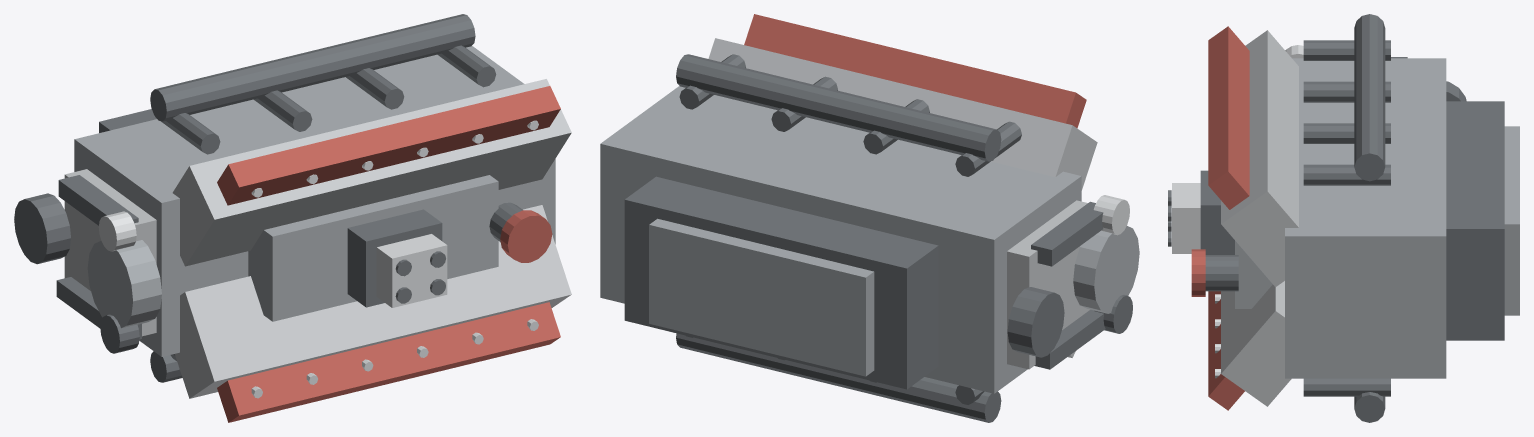
The model's file is engine-v8-265.glb.
3 renders of one model, left to right at view 1: azimuth 30°, elevation 25°; view 2: azimuth 150°, elevation 25°; view 3: azimuth 270°, elevation 25°, orthographic. The views are drawn at different scales.
Parts seen in each view (by area): view 1: engine_block, cylinder_head_-1, cylinder_head_1, intake_manifold, valve_cover_-1, valve_cover_1, exhaust_collector_1, water_pump_housing, carburetor_base, carburetor, timing_cover, crank_pulley (+12 smaller); view 2: engine_block, oil_pan_sump_detail, oil_pan, valve_cover_1, exhaust_collector_1, cylinder_head_1, exhaust_collector_-1, timing_cover, water_pump_housing, crank_pulley, accessory_bracket_right, accessory_bracket_left (+6 smaller); view 3: engine_block, oil_pan, cylinder_head_1, valve_cover_1, cylinder_head_-1, exhaust_collector_1, oil_pan_sump_detail, carburetor, carburetor_base, valve_cover_-1, exhaust_runner_-1_3, exhaust_runner_1_3 (+7 smaller).
Part boxes in pixels (x1,y1,x2,y2): engine_block: [74, 46, 555, 356]; cylinder_head_-1: [175, 205, 571, 398]; cylinder_head_1: [172, 79, 571, 266]; intake_manifold: [248, 175, 498, 321]; valve_cover_-1: [217, 302, 560, 422]; valve_cover_1: [217, 86, 560, 205]; exhaust_collector_1: [150, 14, 475, 121]; water_pump_housing: [87, 240, 161, 328]; carburetor_base: [347, 209, 442, 307]; carburetor: [376, 234, 447, 307]; timing_cover: [64, 169, 156, 336]; crank_pulley: [14, 193, 70, 264]; engine_block: [600, 86, 1081, 393]; oil_pan_sump_detail: [649, 218, 874, 376]; oil_pan: [624, 176, 938, 389]; valve_cover_1: [744, 14, 1086, 128]; exhaust_collector_1: [676, 54, 1001, 161]; cylinder_head_1: [708, 38, 1097, 190]; exhaust_collector_-1: [676, 333, 1001, 422]; timing_cover: [1007, 200, 1089, 369]; water_pump_housing: [1073, 226, 1139, 313]; crank_pulley: [1007, 287, 1064, 357]; accessory_bracket_right: [1031, 201, 1103, 266]; accessory_bracket_left: [1034, 309, 1105, 369]; engine_block: [1285, 58, 1446, 378]; oil_pan: [1446, 101, 1504, 340]; cylinder_head_1: [1221, 30, 1298, 287]; valve_cover_1: [1208, 26, 1249, 209]; cylinder_head_-1: [1221, 281, 1291, 406]; exhaust_collector_1: [1354, 14, 1385, 181]; oil_pan_sump_detail: [1504, 126, 1519, 315]; carburetor: [1172, 183, 1200, 253]; carburetor_base: [1200, 170, 1234, 254]; valve_cover_-1: [1208, 291, 1244, 410]; exhaust_runner_-1_3: [1303, 378, 1390, 396]; exhaust_runner_1_3: [1303, 164, 1390, 185].
Bounding box in the file's own units: 3.37 × 2.12 × 2.51.
